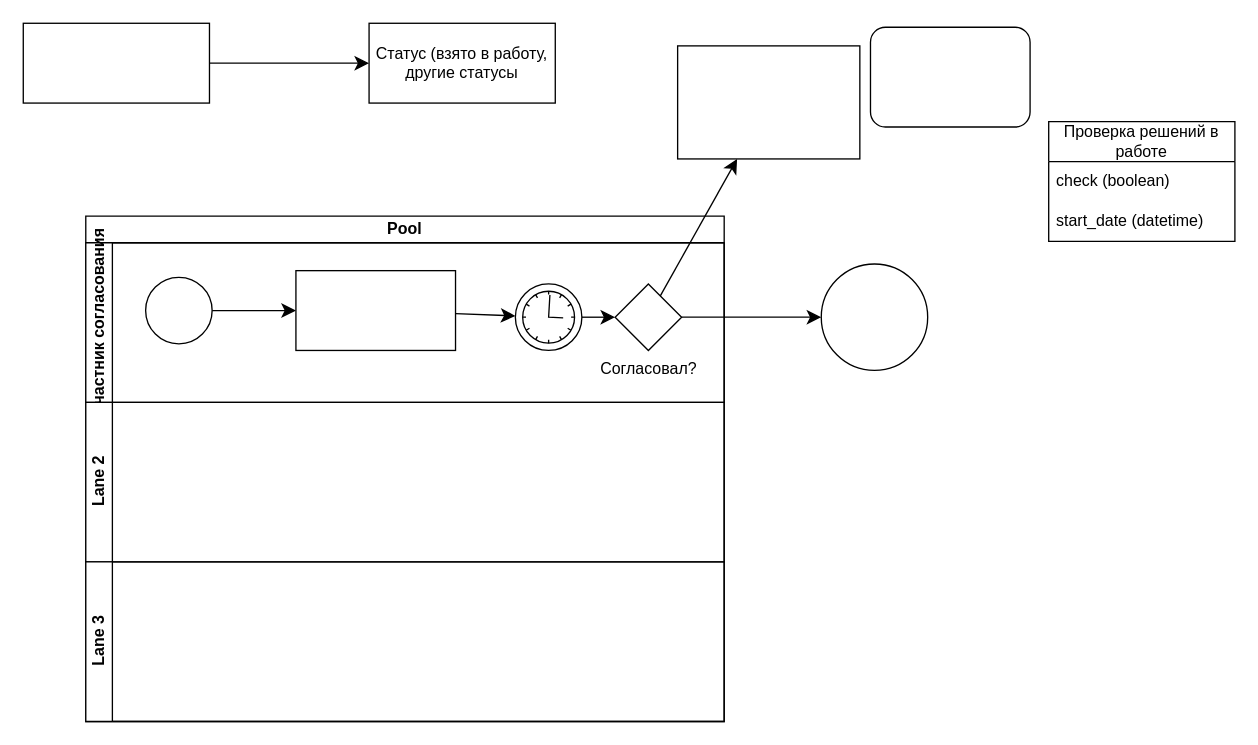
The diagram is 1258 pixels wide and 745 high, and some of its shapes have lost their labels. The centre of each missing label's shape, as x and y in pixels:
Возврат в общую очередь (пул документов для выбора исполнителей): the point at 768,102
Решение (Документ): the point at 115,62
Согласование: the point at 375,309
